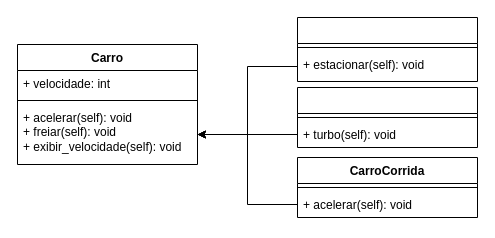
Some shapes in this 495 by 238 pixel diagram are drawn without their labels. Each missing label, with the box of its shape:
CarroEsportivo: (296, 86, 478, 148)
CarroInteligente: (296, 16, 478, 82)
